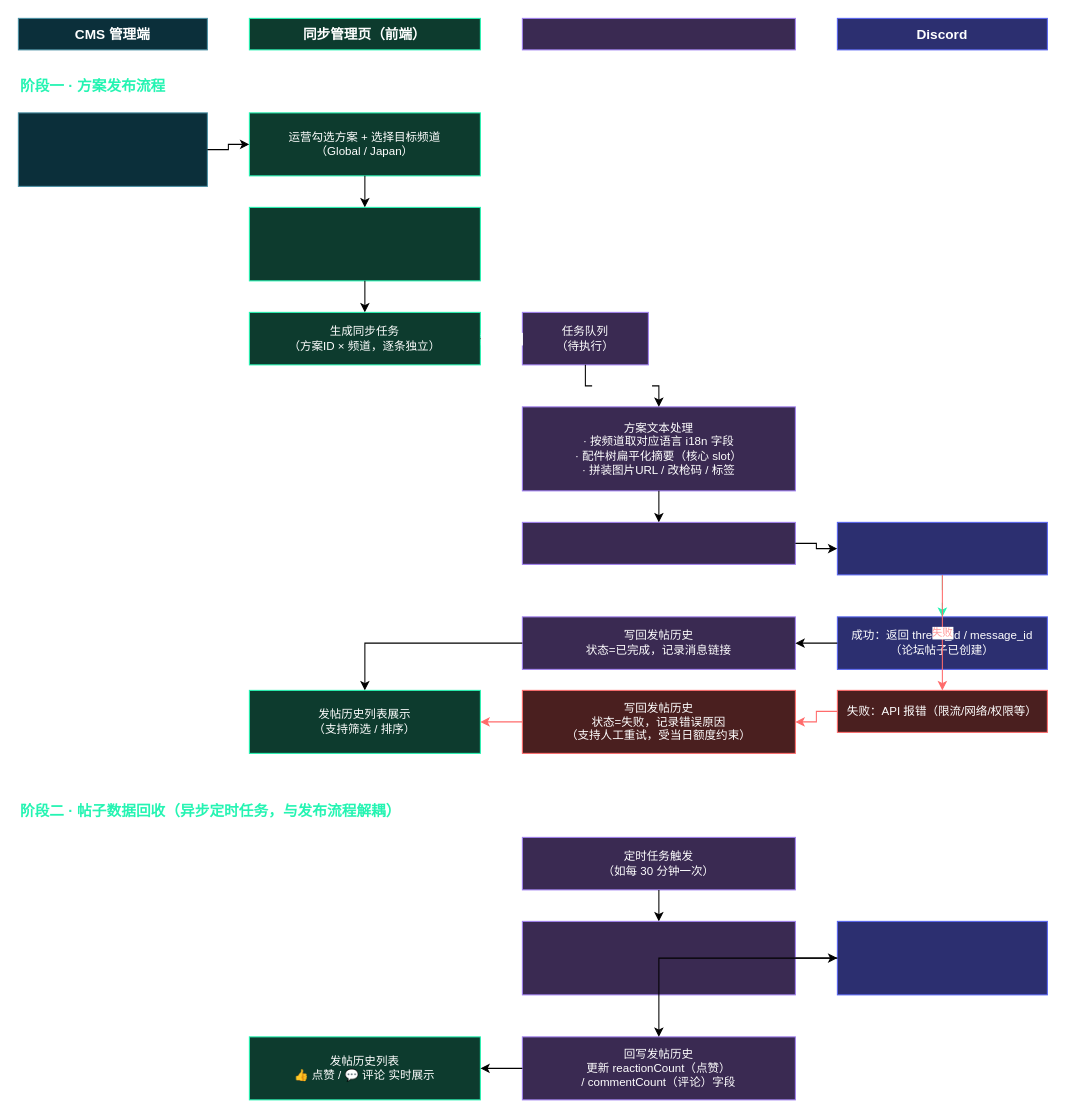
This 1066x1118 diagram has some shape labels left out. The centre of each missing label's shape, as x and y in pixels:
"Bot 服务端" goes at [658,33].
"前端硬性校验 · 单次勾选上限 / 每日额度 · 多语言自动跳过（缺 jp 不生成 Japan 消息）" goes at [364,243].
"扫描发帖历史中 状态=已完成 的记录 取出各条的 message_id / thread_id" goes at [658,957].
"改枪方案数据 名称 / 改枪码 / 图片URL 多语言 i18n / 配件树 / 标签" goes at [112,149].
"组装 Discord Embed JSON" goes at [658,542].
"调用 Discord API GET 帖子首帖消息 + GET 帖子内回复列表 读取 reactions 数 / 回复消息数" goes at [941,957].
"调用 Discord API POST /channels/{forum_id}/threads" goes at [941,548].
